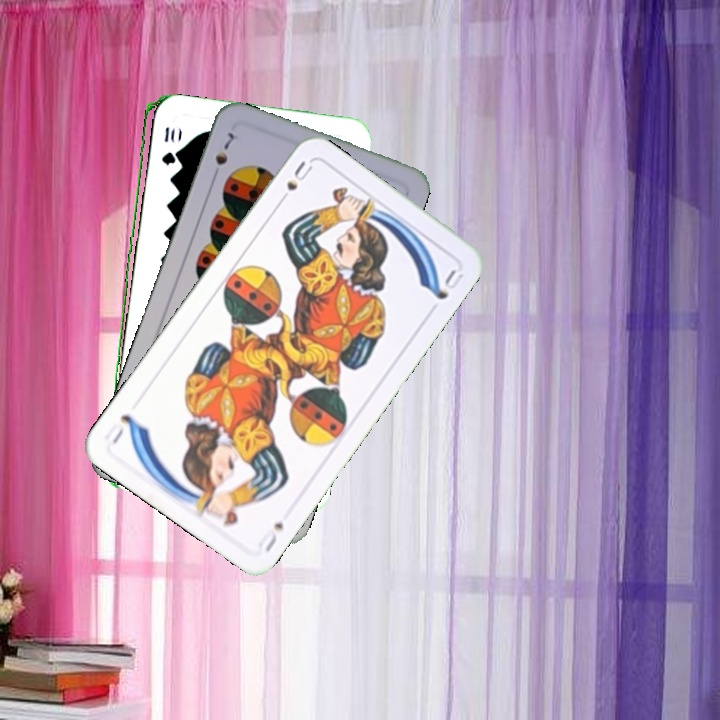G10: (157, 123, 178, 167)
S7: (208, 128, 237, 182)
SU: (274, 157, 316, 208), (253, 517, 286, 555)
